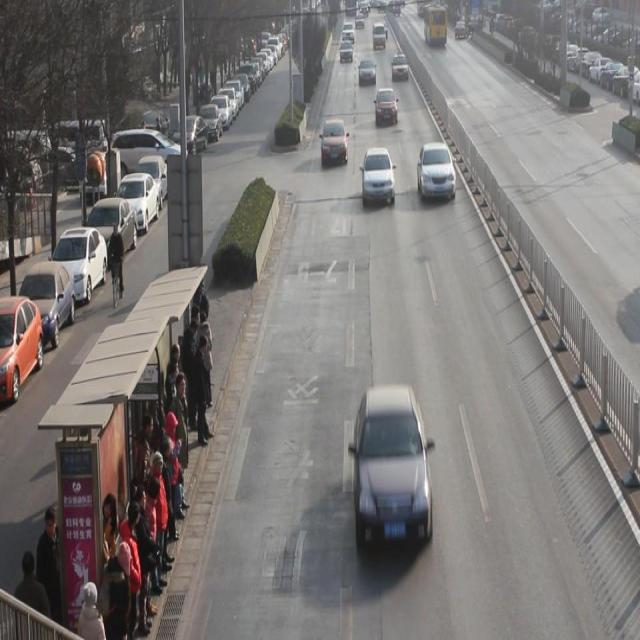car: (354, 388, 434, 552), (418, 144, 457, 203), (362, 148, 397, 208), (322, 120, 348, 168), (375, 89, 399, 130), (392, 54, 410, 86), (359, 59, 378, 88)
